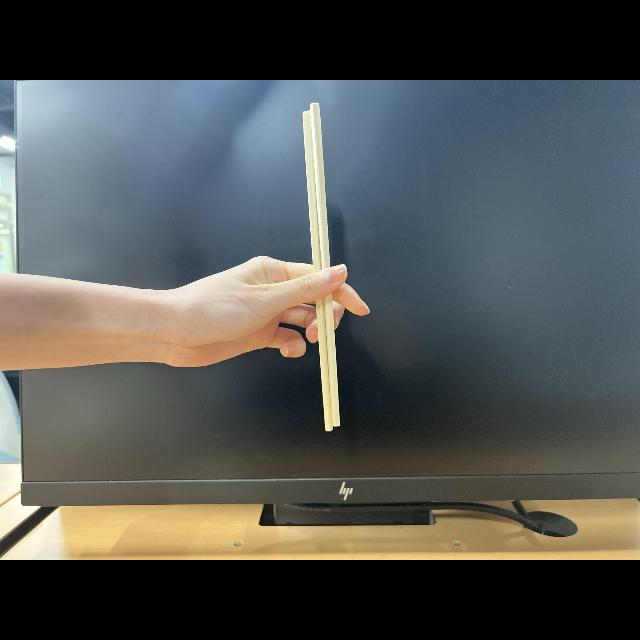stick: (245, 102, 368, 434)
